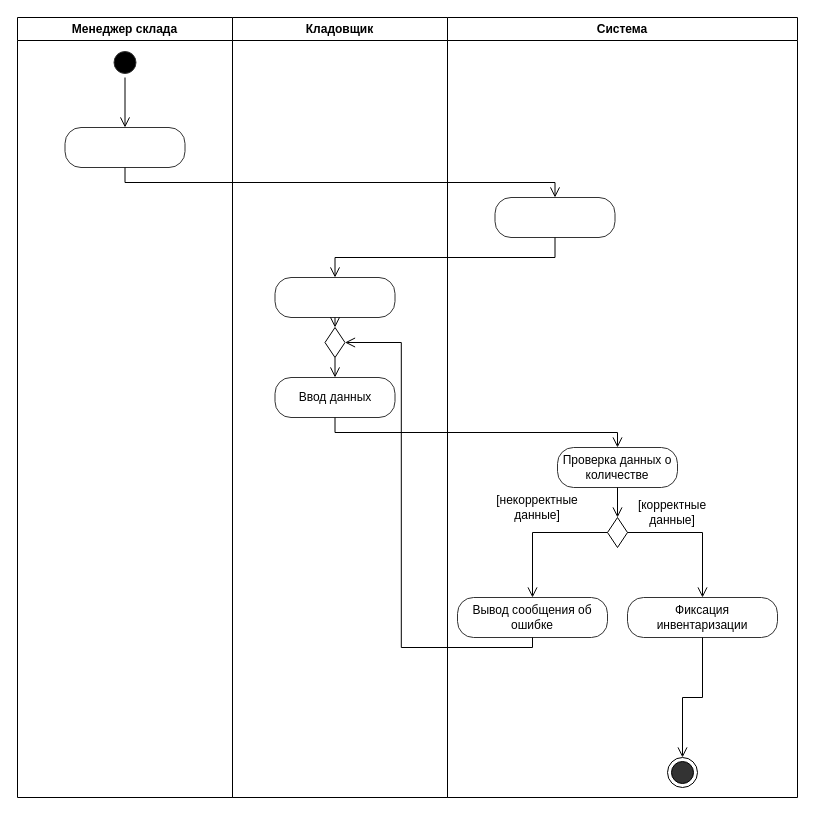
The diagram is 815 pixels wide and 815 high, and some of its shapes have lost their labels. Each missing label, with the centre of its shape:
"Запрос инвентаризации" belongs at point 124,147.
"Подсчет товаров" belongs at point 334,297.
"Формирование перечня товаров и ячеек" belongs at point 554,217.
